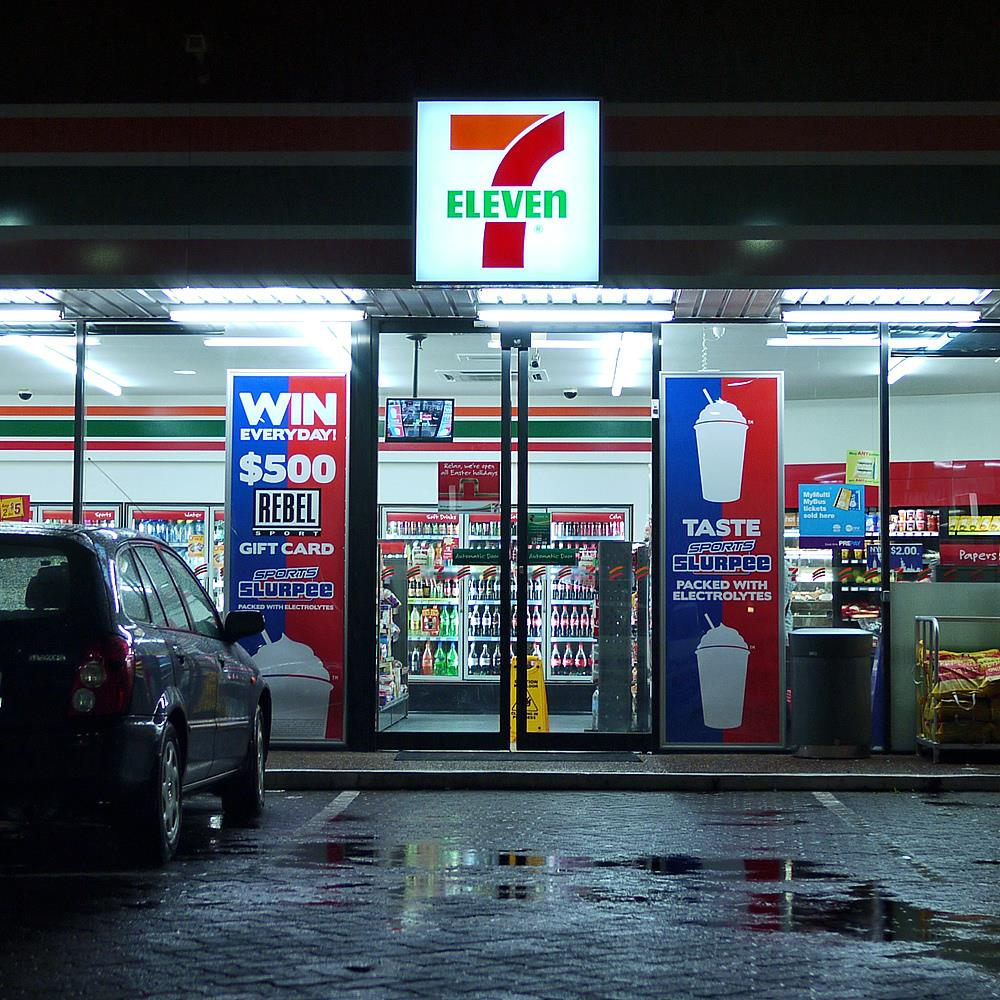seven_eleven: (433, 96, 595, 280)
